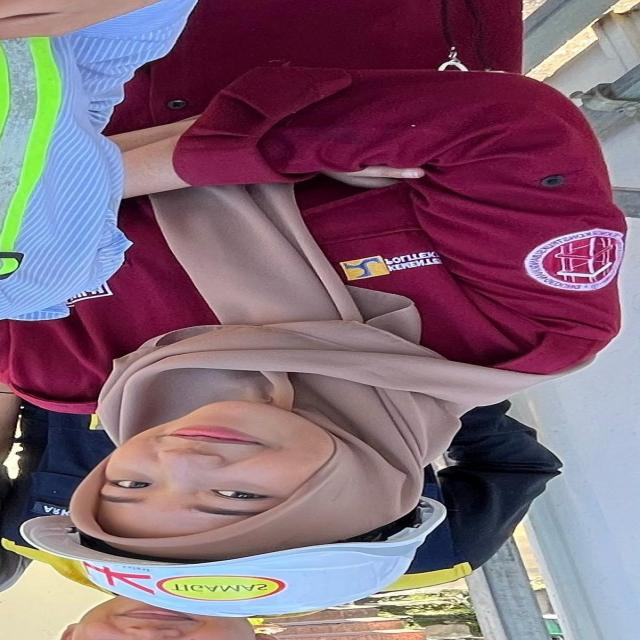safetyhelmet: (25, 428, 449, 620)
